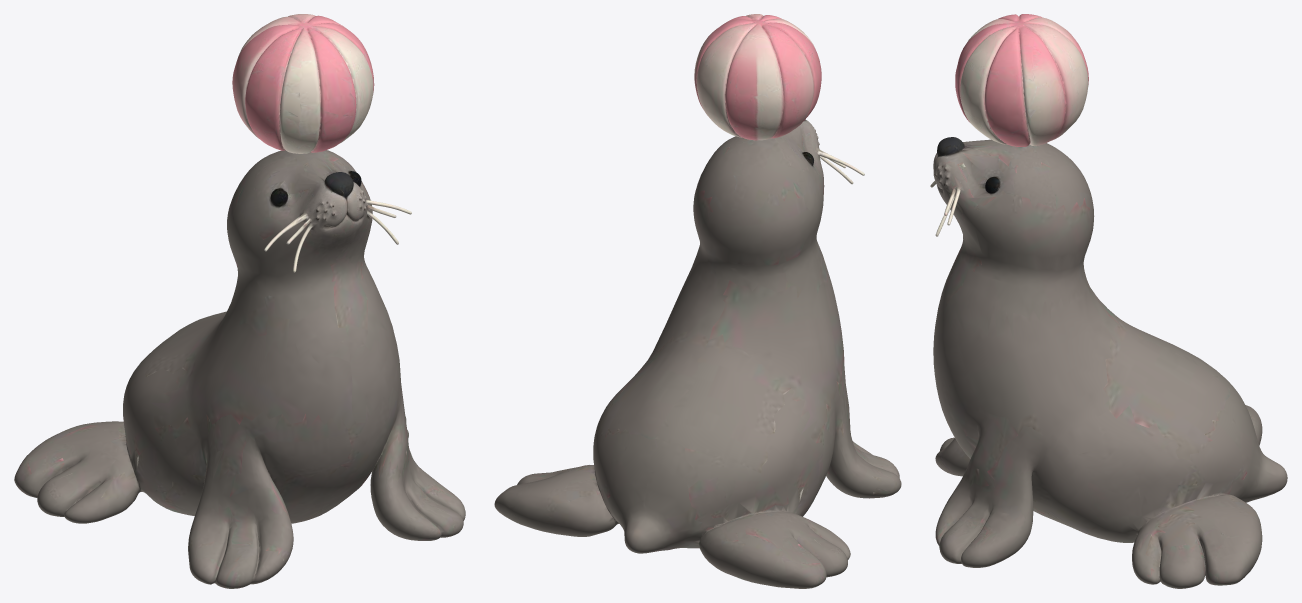
3 views of the same model, side by side, from view 1: azimuth 30°, elevation 25°; view 2: azimuth 150°, elevation 25°; view 3: azimuth 270°, elevation 25° (orthographic). The views are drawn at different scales.
Size of the model in its own units: 1.42 by 1.9 by 1.27.
1 material, 1 textured.
